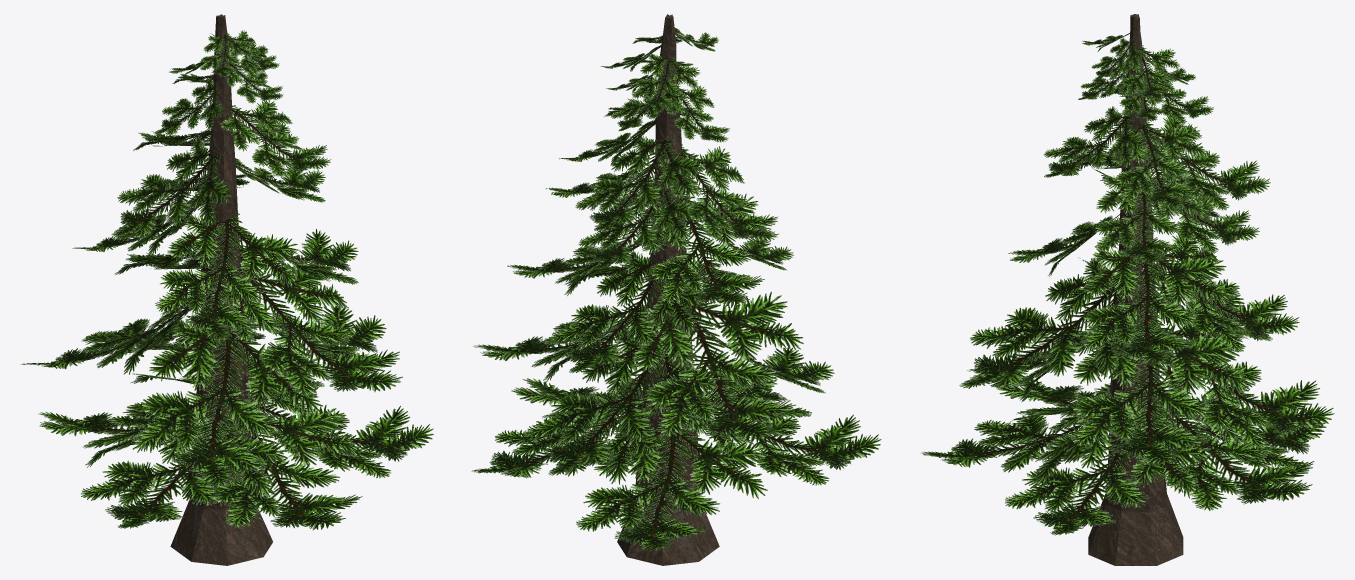
The model's file is PineTree.fbx.
The picture shows the model from 3 angles, left to right: view 1: azimuth 30°, elevation 25°; view 2: azimuth 150°, elevation 25°; view 3: azimuth 270°, elevation 25°; orthographic projection.
Parts seen in each view (by area): view 1: Cube; view 2: Cube; view 3: Cube.
Part boxes in pixels (x1,y1,x2,y2): Cube: (20, 14, 433, 565); Cube: (471, 14, 881, 565); Cube: (920, 14, 1334, 565).
Size of the model in its own units: 840 by 1235 by 898.
